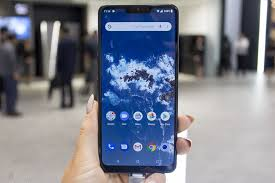lg: (96, 1, 179, 175)
